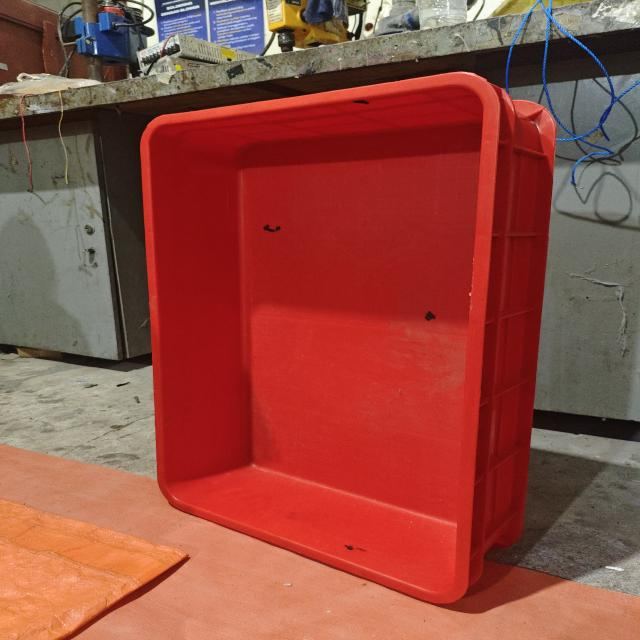red plastic box: (140, 72, 556, 604)
